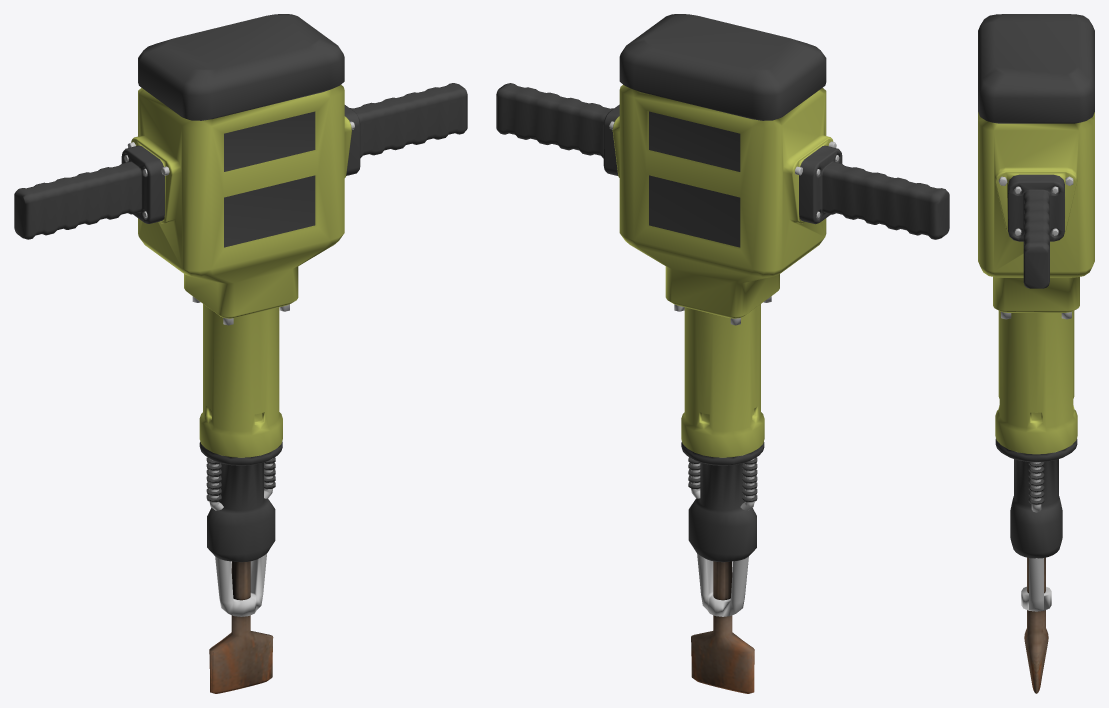
The model's file is presslufthammer.fbx.
The picture shows the model from 3 angles, left to right: view 1: azimuth 30°, elevation 25°; view 2: azimuth 150°, elevation 25°; view 3: azimuth 270°, elevation 25°; orthographic projection.
Parts seen in each view (by area): view 1: Mesh; view 2: Mesh; view 3: Mesh.
Boxes of the visible parts, x1,y1,x2,y2 form: Mesh: [14, 14, 467, 693]; Mesh: [496, 14, 949, 693]; Mesh: [978, 14, 1094, 693].
Bounding box in the file's own units: 59.8 × 83.35 × 13.85.
